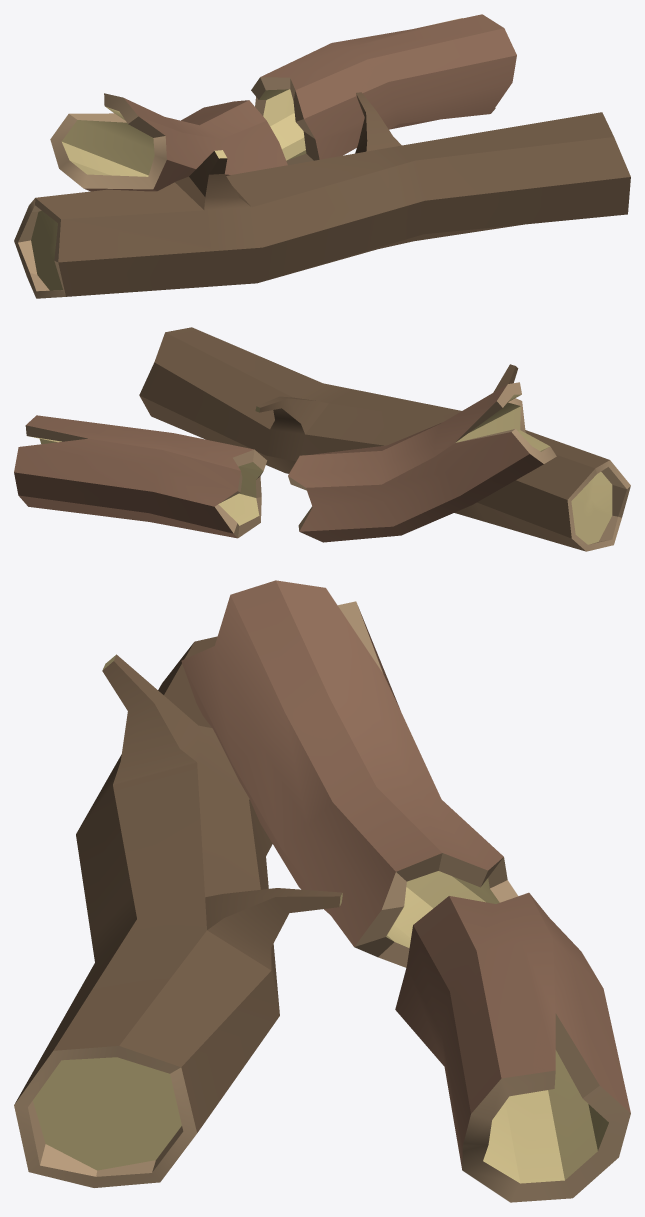
Rendered from Trunks__Stumps_Pack_Tree_trunk_02.001.fbx.
3 renders of one model, top to bottom at view 1: azimuth 30°, elevation 25°; view 2: azimuth 150°, elevation 25°; view 3: azimuth 270°, elevation 25°, orthographic. The views are drawn at different scales.
Parts seen in each view (by area): view 1: Trunks__Stumps_Pack_Tree_trunk_02.001; view 2: Trunks__Stumps_Pack_Tree_trunk_02.001; view 3: Trunks__Stumps_Pack_Tree_trunk_02.001.
Part boxes in pixels (box(x1,y1,x2,y2)): Trunks__Stumps_Pack_Tree_trunk_02.001: box(14, 14, 630, 298); Trunks__Stumps_Pack_Tree_trunk_02.001: box(14, 327, 630, 551); Trunks__Stumps_Pack_Tree_trunk_02.001: box(14, 580, 630, 1202).
Bounding box in the file's own units: 135 × 41.5 × 81.59.
